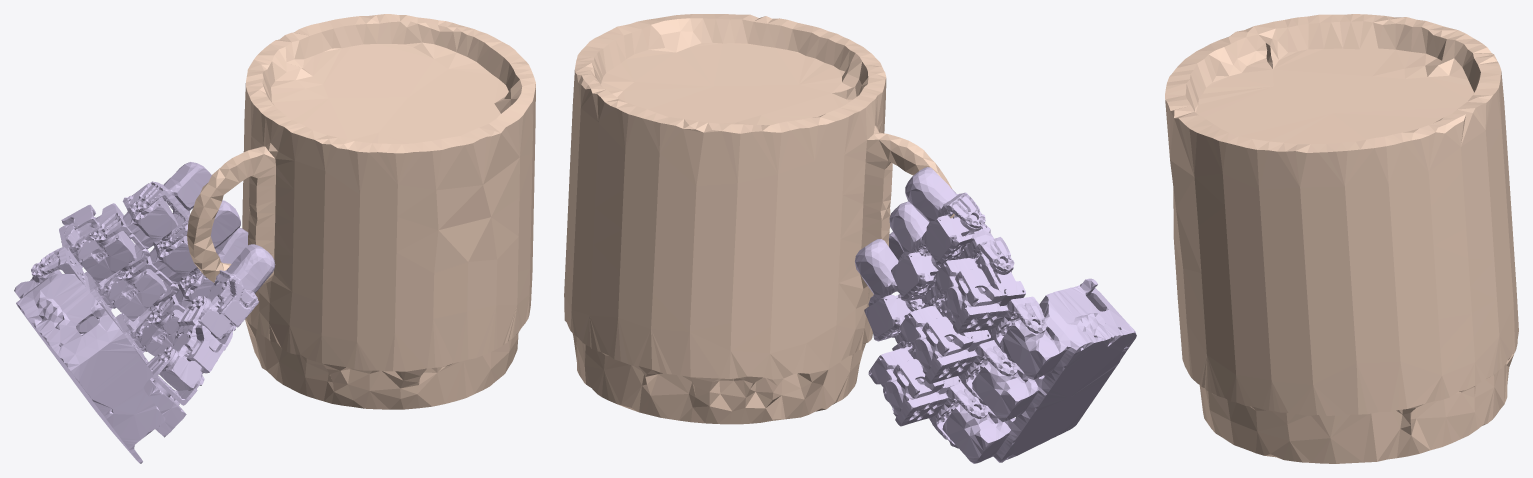
3 views of the same model, side by side, from view 1: azimuth 30°, elevation 25°; view 2: azimuth 150°, elevation 25°; view 3: azimuth 270°, elevation 25° (orthographic). The views are drawn at different scales.
Visible parts, largest first — view 1: world, LEAP_hand; view 2: world, LEAP_hand; view 3: world.
Part boxes in pixels (<box>): world: <box>187,14,535,409</box>; LEAP_hand: <box>14,162,275,463</box>; world: <box>564,14,954,424</box>; LEAP_hand: <box>855,167,1136,463</box>; world: <box>1165,14,1518,463</box>.
Bounding box in the file's own units: 0.3956 × 0.2319 × 0.2167.
